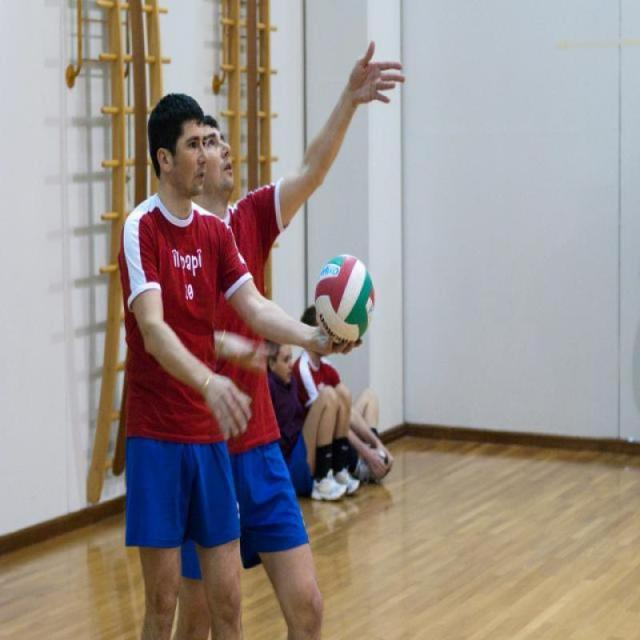volleyball: (315, 255, 379, 348)
